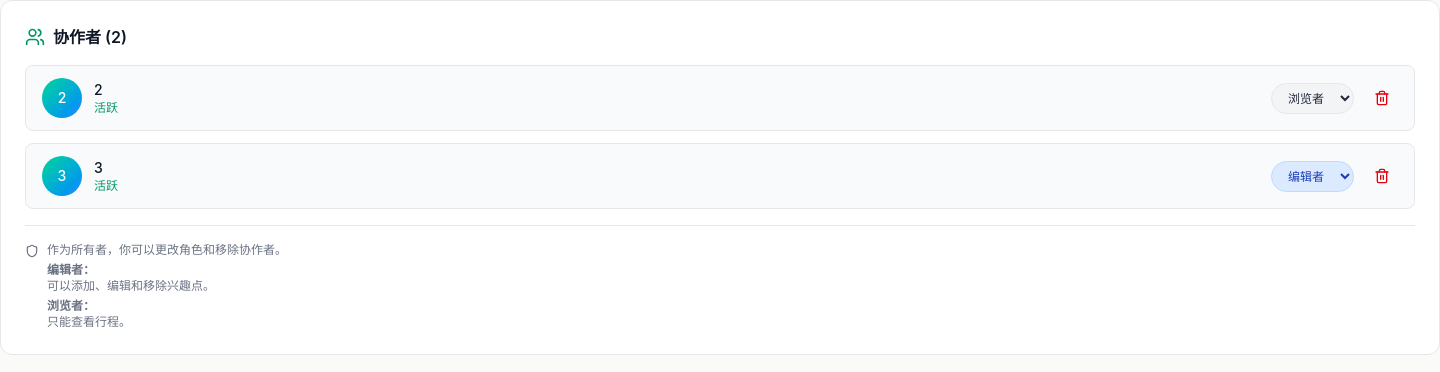
Test: collaboratorPanel › uses plain API id fields for mutations and local state updates
The width and height of the screenshot is (1440, 372).
Select "编辑者" in the 1st dropdown at (1312, 98), box top-left (1271, 82), bottom-right (1354, 114)
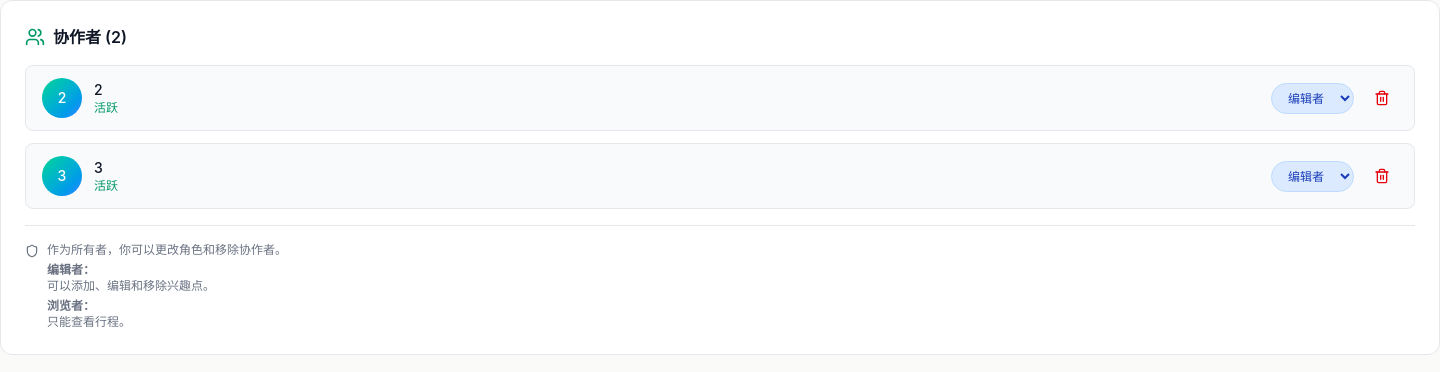
Click the 1st button titled "移除协作者" at (1382, 98), box top-left (1366, 82), bottom-right (1398, 114)
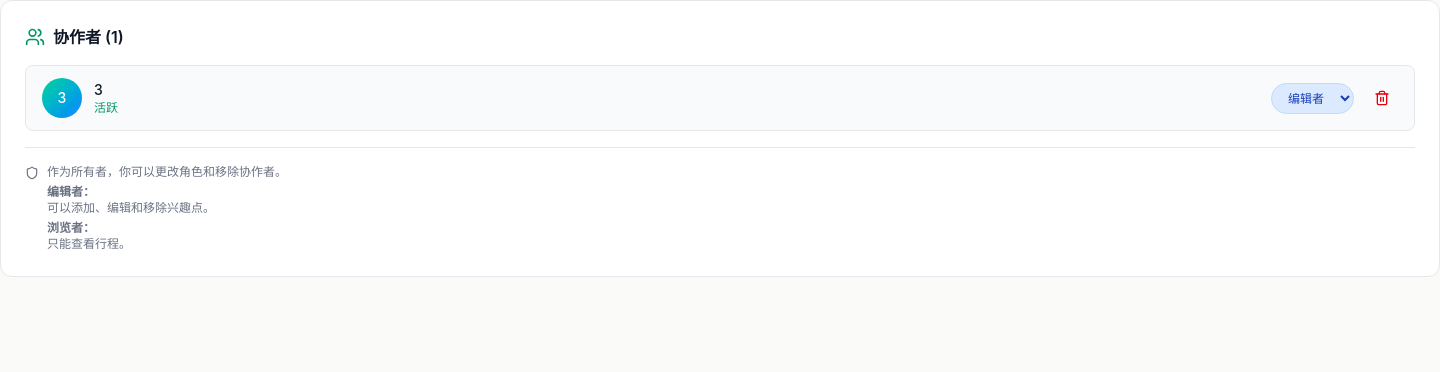
Check: the heading "协作者 (1)" is shown, box top-left (25, 27), bottom-right (124, 47)
